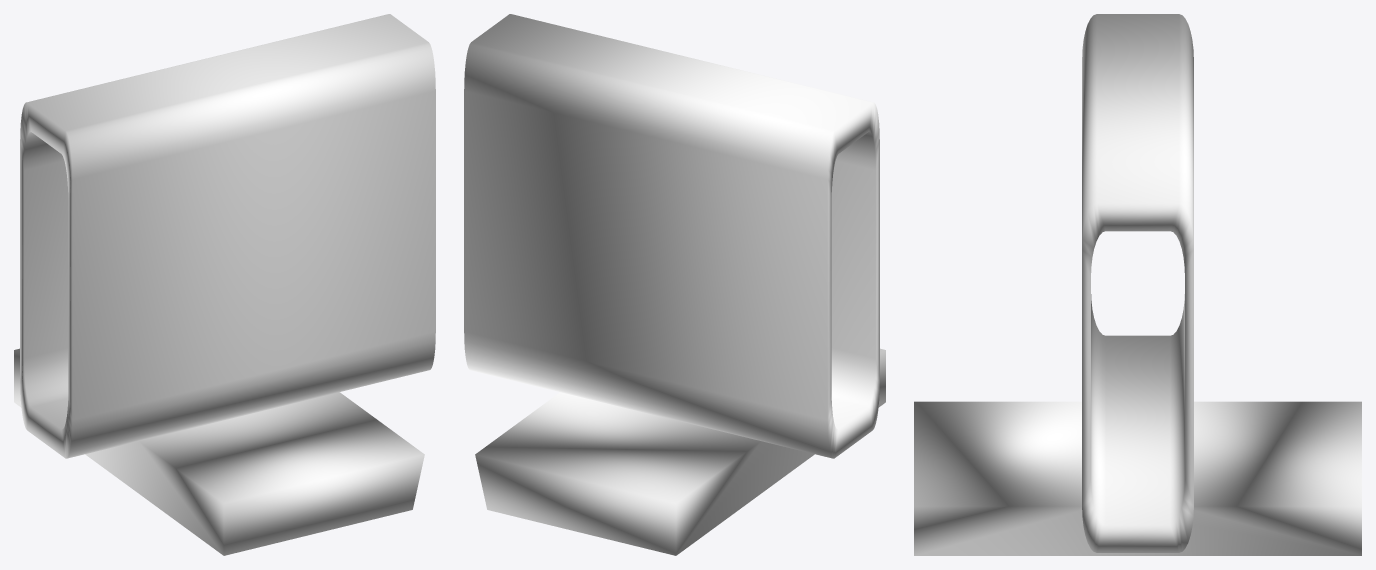
The model's file is labakou.obj.
3 views of the same model, side by side, from view 1: azimuth 30°, elevation 25°; view 2: azimuth 150°, elevation 25°; view 3: azimuth 270°, elevation 25° (orthographic). The views are drawn at different scales.
Bounding box in the file's own units: 1 × 1 × 1.
1 material, 1 textured.
